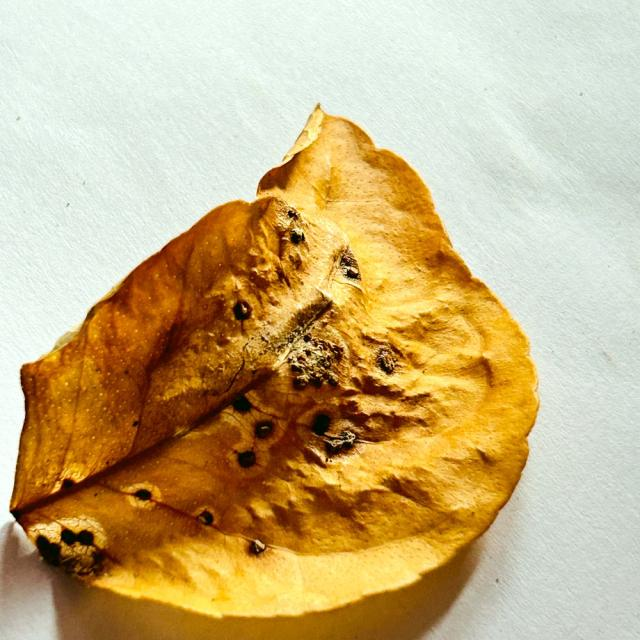DryLeaf_Lemon: (10, 106, 538, 618)
